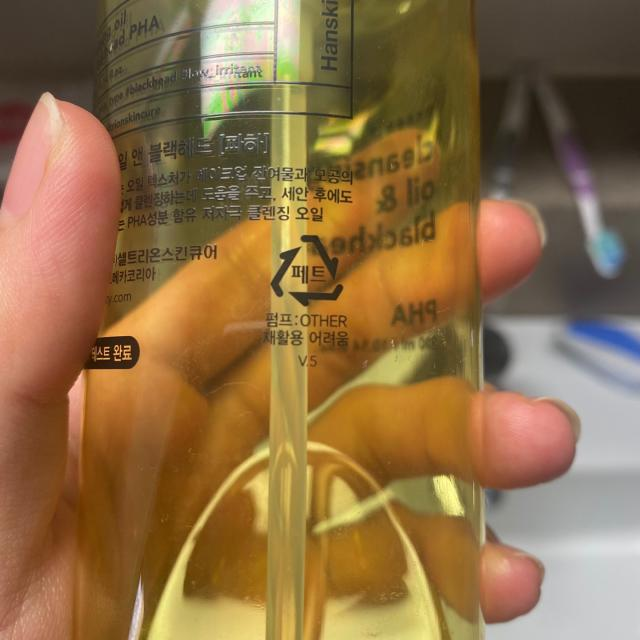PET: (269, 230, 347, 310)
